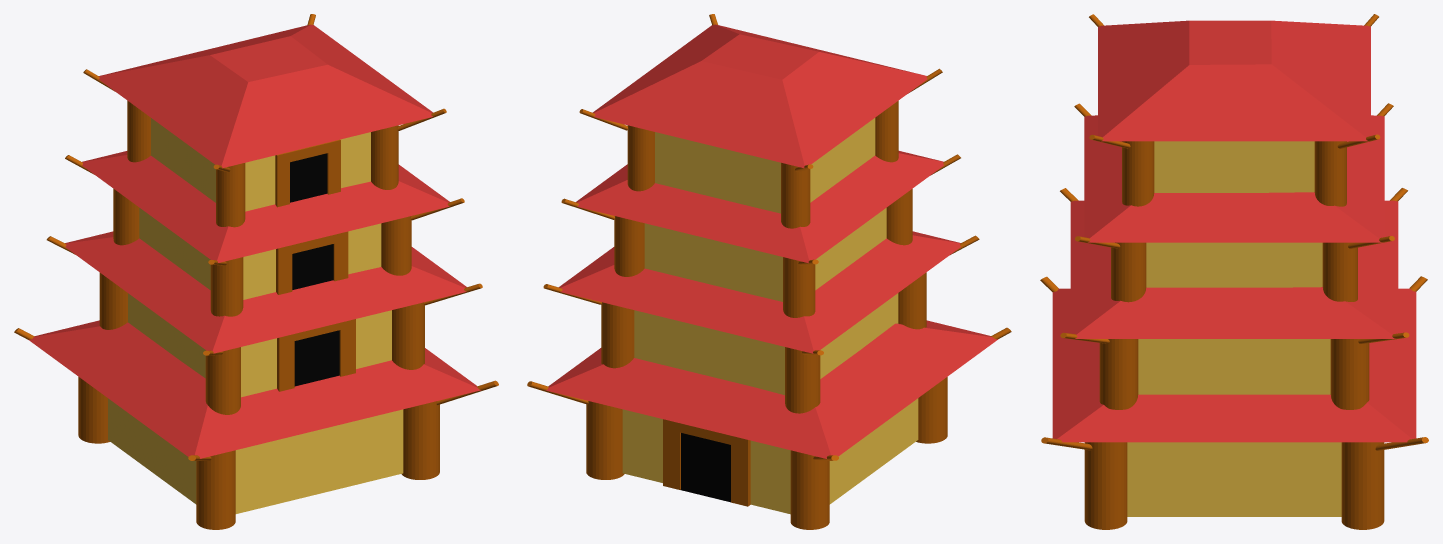
The model's file is Temple.fbx.
3 renders of one model, left to right at view 1: azimuth 30°, elevation 25°; view 2: azimuth 150°, elevation 25°; view 3: azimuth 270°, elevation 25°, orthographic. The views are drawn at different scales.
Visible parts, largest first — view 1: Cube.002, Cube.001, Cube.003, Cube.004; view 2: Cube.002, Cube.001, Cube.003, Cube.004; view 3: Cube.002, Cube.001, Cube.003, Cube.004.
Part boxes in pixels (box(x1,y1,x2,y2)): Cube.002: box(14, 320, 498, 529); Cube.001: box(83, 14, 446, 227); Cube.003: box(46, 231, 482, 414); Cube.004: box(65, 151, 464, 316); Cube.002: box(527, 320, 1011, 529); Cube.001: box(579, 14, 942, 228); Cube.003: box(543, 231, 979, 413); Cube.004: box(561, 151, 960, 317); Cube.002: box(1040, 276, 1428, 529); Cube.001: box(1089, 14, 1380, 206); Cube.003: box(1060, 188, 1409, 409); Cube.004: box(1074, 103, 1394, 302).
Bounding box in the file's own units: 4300 × 5207 × 4274.
